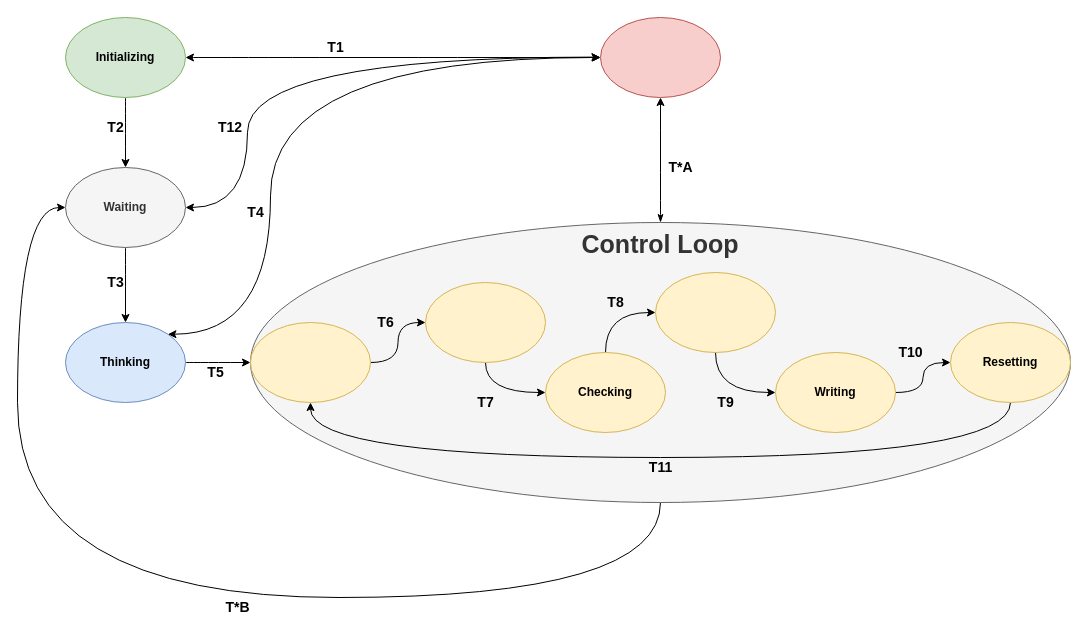
Some shapes in this 1088 by 635 pixel diagram are drawn without their labels. Each missing label, with the centre of its shape:
"Compressing" goes at (715,312).
"Measuring" goes at (485,322).
"Moving" goes at (310,362).
"Troubleshooting" goes at (660,57).
